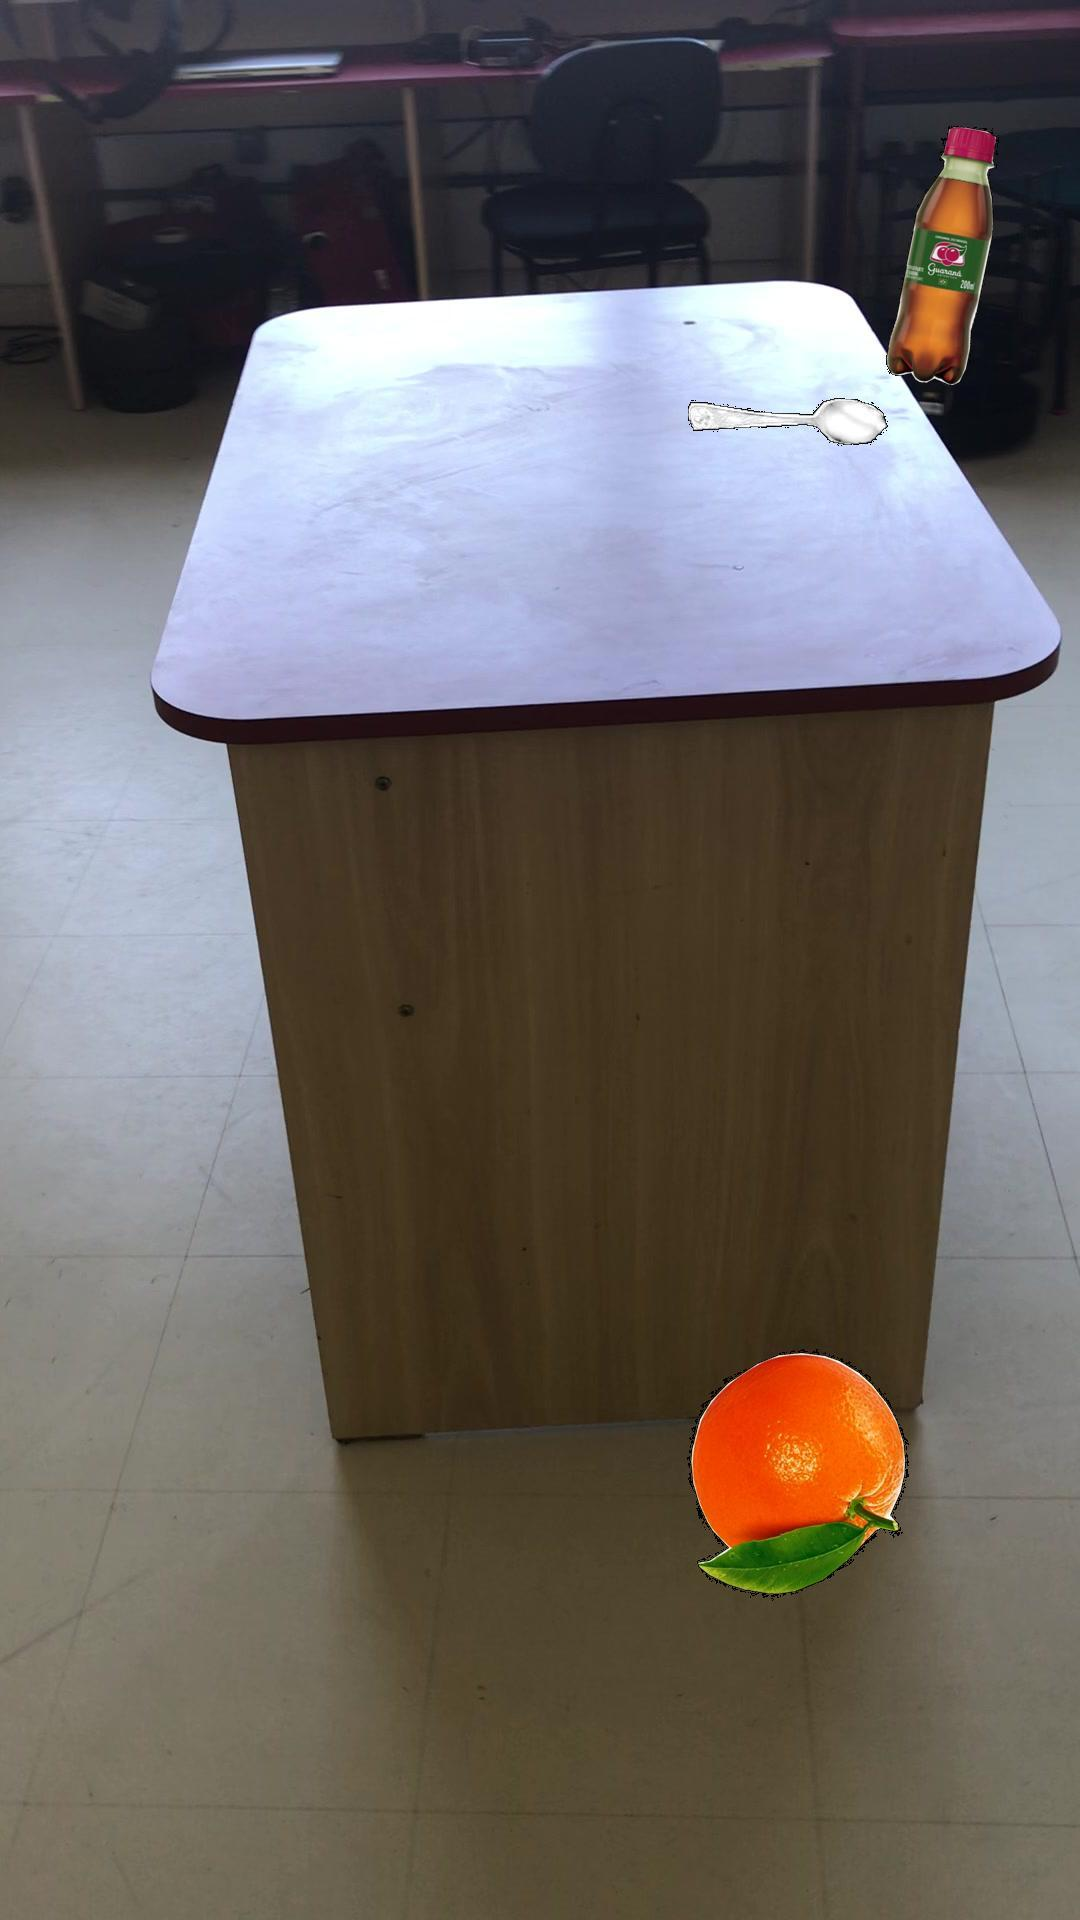guarana: (885, 124, 997, 385)
orange: (687, 1348, 907, 1597)
spoon: (687, 397, 886, 443)
